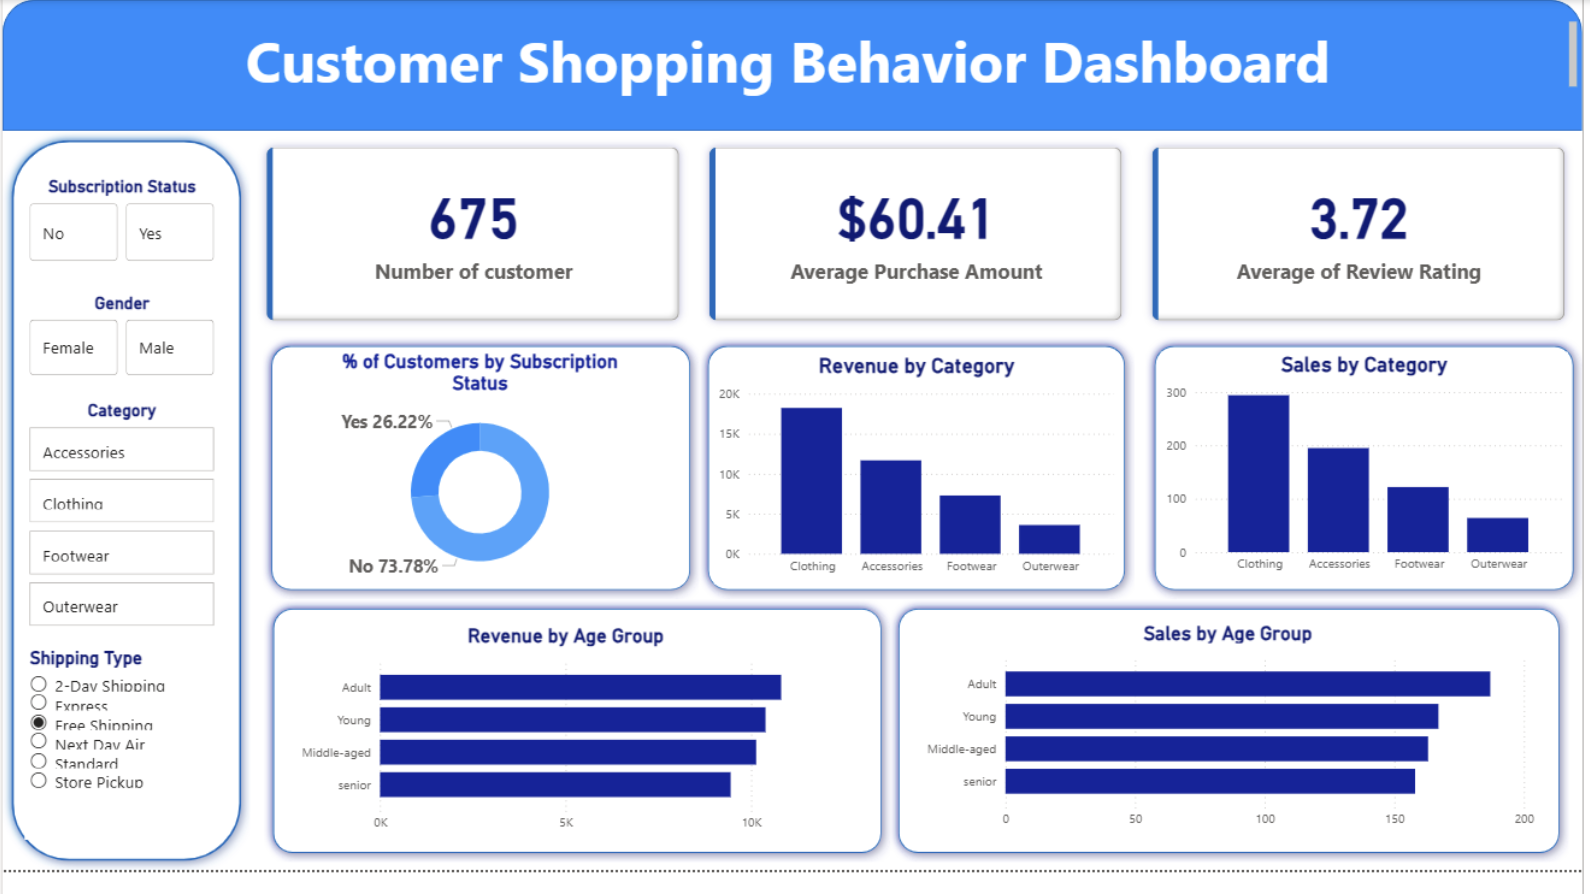

The page's visual inventory and layout, read from the dashboard file:
{"tool":"powerbi","page":{"name":"Page 1","canvas":[1560,860],"ordinal":0},"visuals":[{"type":"cardVisual","fields":{"Data":["customer_data_clean.Number of customer","customer_data_clean.Average Purchase Amount","customer_data_clean.Average of Review Rating"]},"box":[244.5,129.6,1315,203.7],"z":0},{"type":"shape","box":[0,0,1559.5,129.6],"z":1000},{"type":"textbox","box":[0,16.7,1559.5,87],"z":2000},{"type":"shape","box":[255.6,333.4,431.5,259.3],"z":3000},{"type":"donutChart","title":"% of Customers by Subscription Status","fields":{"Category":["customer_data_clean.subscription_status"],"Y":["CountNonNull(customer_data_clean.customer_id)"]},"box":[279.7,346.3,383.4,233.4],"z":4000},{"type":"shape","box":[687.1,333.4,429.7,259.3],"z":5000},{"type":"shape","box":[1127.9,333.4,431.5,259.3],"z":6000},{"type":"clusteredColumnChart","title":"Revenue by Category","fields":{"Y":["Sum(customer_data_clean.purchase_amount)"],"Category":["customer_data_clean.category"]},"box":[702,350,400.1,227.8],"z":7000},{"type":"clusteredColumnChart","title":"Sales by Category","fields":{"Y":["CountNonNull(customer_data_clean.customer_id)"],"Category":["customer_data_clean.category"]},"box":[1142.8,348.2,401.9,227.8],"z":8000},{"type":"shape","box":[0,129.6,244.5,729.7],"z":9000},{"type":"advancedSlicerVisual","title":"Subscription Status","fields":{"Values":["customer_data_clean.subscription_status"]},"box":[22.2,174.1,192.6,88.9],"z":10000},{"type":"advancedSlicerVisual","title":"Gender","fields":{"Values":["customer_data_clean.gender"]},"box":[22.2,288.9,192.6,87],"z":11000},{"type":"advancedSlicerVisual","title":"Category","fields":{"Values":["customer_data_clean.category"]},"box":[22.2,396.4,192.6,229.7],"z":11001},{"type":"listSlicer","title":"Shipping Type","fields":{"Values":["customer_data_clean.shipping_type"]},"box":[22.2,639,190.8,190.8],"z":11002},{"type":"shape","box":[257.4,592.7,618.6,259.3],"z":11003},{"type":"clusteredBarChart","title":"Revenue by Age Group","fields":{"Y":["Sum(customer_data_clean.purchase_amount)"],"Category":["customer_data_clean.age_group"]},"box":[285.2,616.8,542.7,213],"z":11004},{"type":"shape","box":[876,592.7,670.5,259.3],"z":11005},{"type":"clusteredBarChart","title":"Sales by Age Group","fields":{"Y":["CountNonNull(customer_data_clean.customer_id)"],"Category":["customer_data_clean.age_group"]},"box":[902,614.9,614.9,213],"z":11006}]}

Visuals, with their boxes in screenshot pixels (x1, y1, x2, y2), scaled from the page's 1560x860 canvas onto the 1590x894 screenshot:
cardVisual - customer_data_clean.Number of customer x customer_data_clean.Average Purchase Amount: bbox=(249, 135, 1589, 346)
shape: bbox=(0, 0, 1589, 135)
textbox: bbox=(0, 17, 1589, 108)
shape: bbox=(261, 347, 700, 616)
"% of Customers by Subscription Status" donutChart: bbox=(285, 360, 676, 603)
shape: bbox=(700, 347, 1138, 616)
shape: bbox=(1150, 347, 1589, 616)
"Revenue by Category" clusteredColumnChart: bbox=(716, 364, 1123, 601)
"Sales by Category" clusteredColumnChart: bbox=(1165, 362, 1574, 599)
shape: bbox=(0, 135, 249, 893)
"Subscription Status" advancedSlicerVisual: bbox=(23, 181, 219, 273)
"Gender" advancedSlicerVisual: bbox=(23, 300, 219, 391)
"Category" advancedSlicerVisual: bbox=(23, 412, 219, 651)
"Shipping Type" listSlicer: bbox=(23, 664, 217, 863)
shape: bbox=(262, 616, 893, 886)
"Revenue by Age Group" clusteredBarChart: bbox=(291, 641, 844, 863)
shape: bbox=(893, 616, 1576, 886)
"Sales by Age Group" clusteredBarChart: bbox=(919, 639, 1546, 861)
